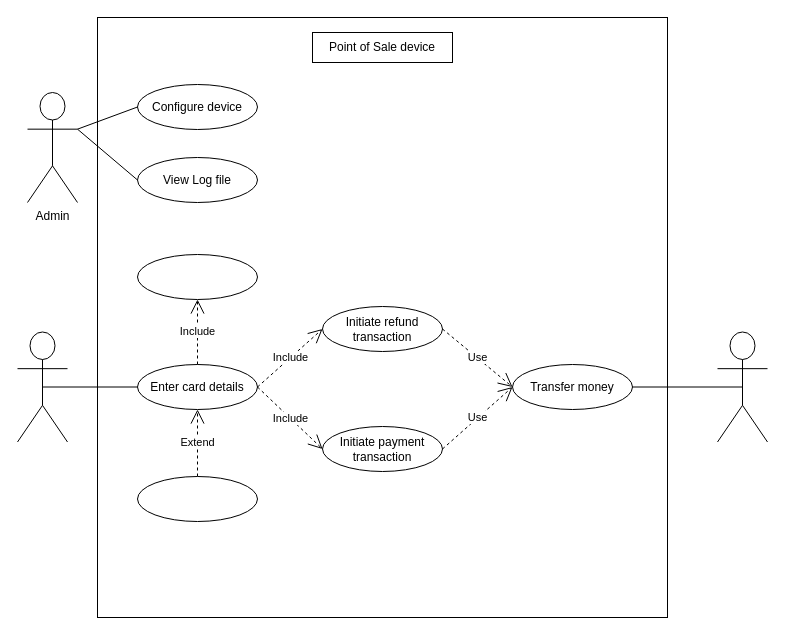
This 785x635 diagram has some shape labels left out. The centre of each missing label's shape, as x and y in pixels:
Bank API: pixel 742 386
Invalid card number: pixel 197 499
User: pixel 42 386
View past transactions: pixel 197 277
